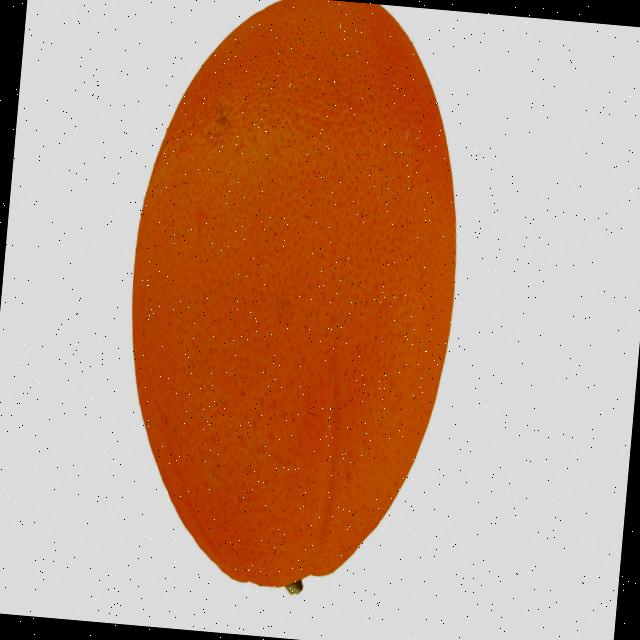orange: (103, 0, 483, 608)
